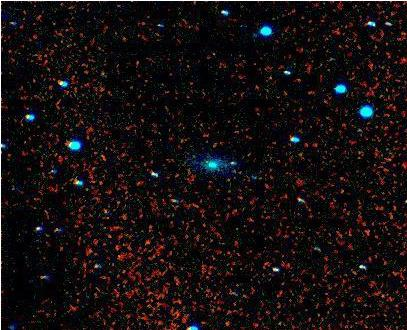star: (215, 144, 245, 174)
